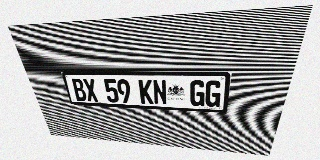5: (103, 79, 120, 103)
9: (116, 79, 132, 103)
B: (70, 78, 88, 101)
G: (204, 80, 222, 107), (190, 80, 206, 106)
K: (138, 79, 154, 104)
N: (152, 80, 167, 105)
X: (82, 79, 99, 102)
